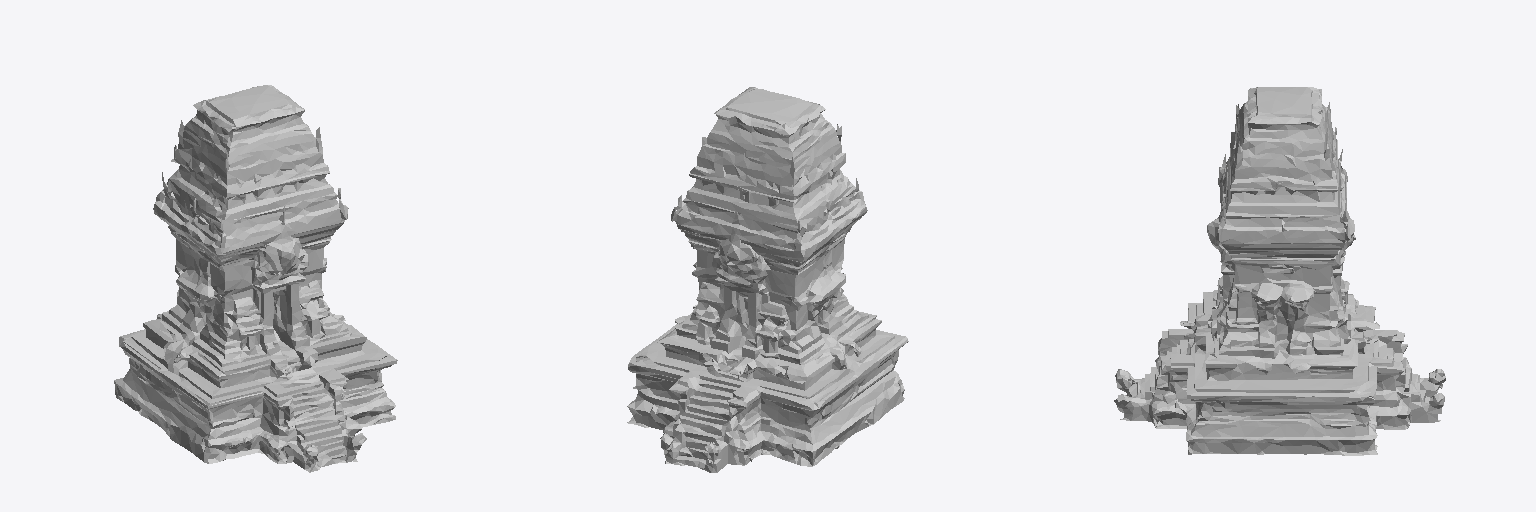
Rendered from Candi_Kidal_0603154932_texture.obj.
3 views of the same model, side by side, from view 1: azimuth 30°, elevation 25°; view 2: azimuth 150°, elevation 25°; view 3: azimuth 270°, elevation 25° (orthographic).
Parts seen in each view (by area): view 1: Candi_Kidal_[number redacted]_texture; view 2: Candi_Kidal_[number redacted]_texture; view 3: Candi_Kidal_[number redacted]_texture.
Boxes of the visible parts, x1,y1,x2,y2 form: Candi_Kidal_[number redacted]_texture: [114, 85, 397, 472]; Candi_Kidal_[number redacted]_texture: [627, 87, 908, 472]; Candi_Kidal_[number redacted]_texture: [1114, 87, 1445, 455].
Size of the model in its own units: 1.3 by 2 by 1.95.